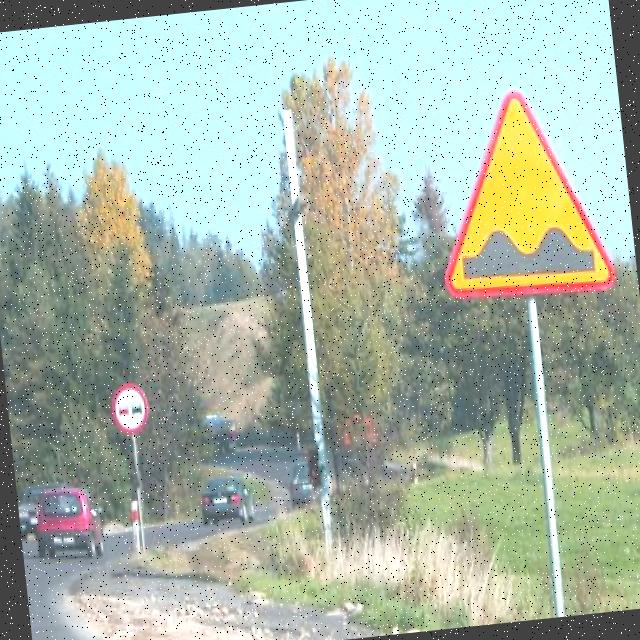Zakaz wyprzedzania: (108, 377, 154, 436)
